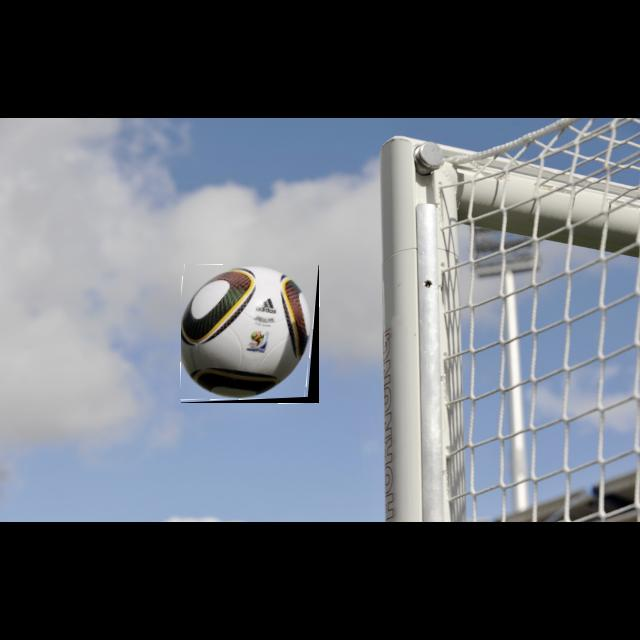Football: (181, 265, 319, 403)
